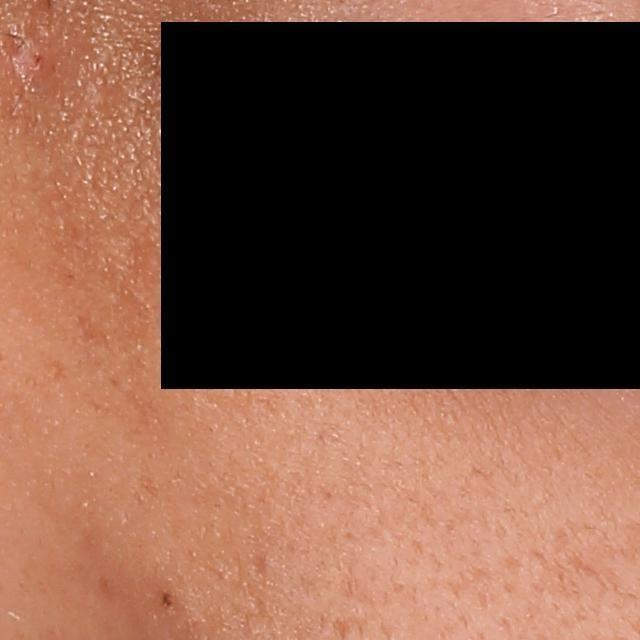nevus: (155, 590, 175, 611)
